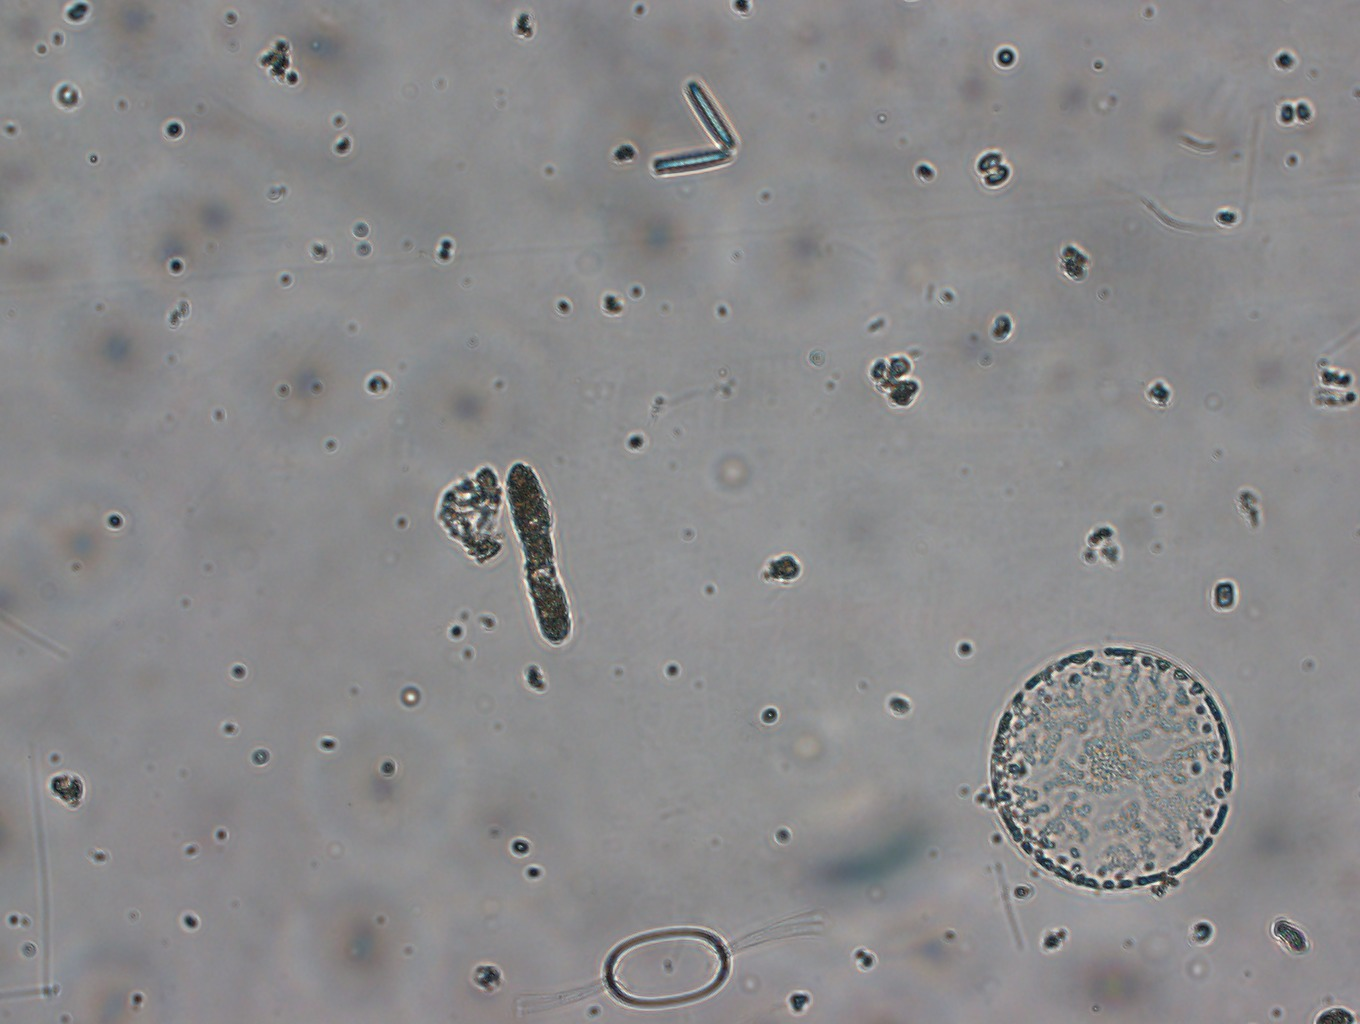coscinodiscus: (986, 639, 1240, 906)
thalassionema nitzschioides: (643, 79, 751, 180)
